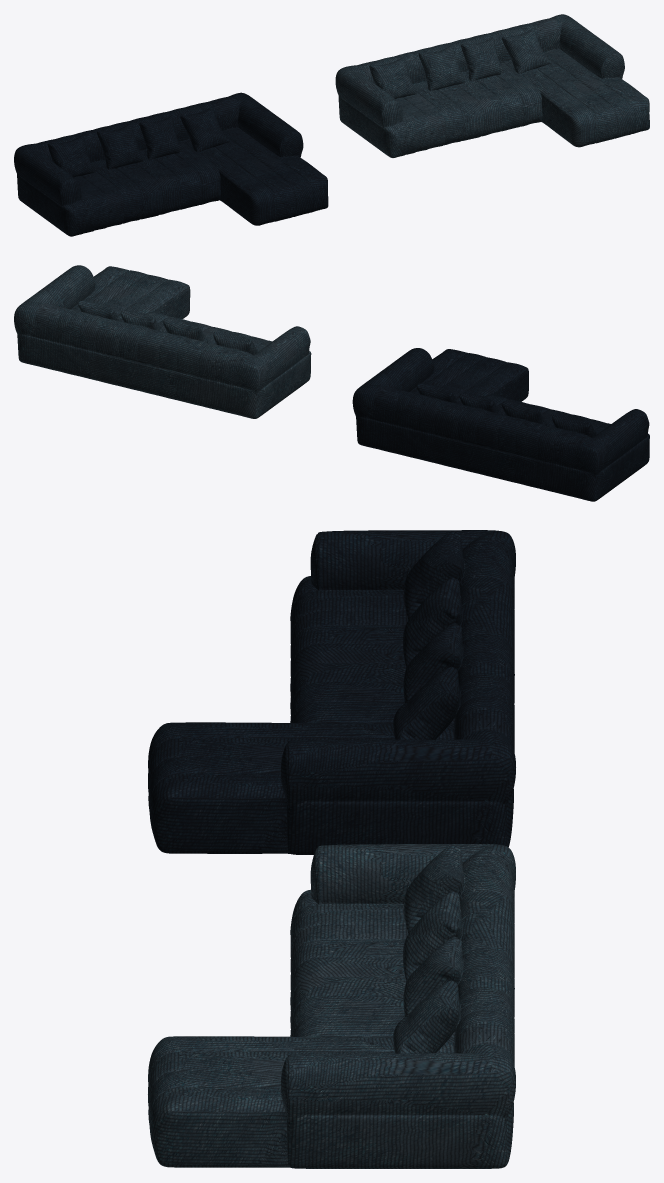
The model's file is Nordico.glb.
The picture shows the model from 3 angles, top to bottom: view 1: azimuth 30°, elevation 25°; view 2: azimuth 150°, elevation 25°; view 3: azimuth 270°, elevation 25°; orthographic projection. The views are drawn at different scales.
Visible parts, largest first — view 1: Nordico_Crema_COPIA, Nordico_GrisOscuro; view 2: Nordico_GrisOscuro, Nordico_Crema_COPIA; view 3: Nordico_Crema_COPIA, Nordico_GrisOscuro.
Part boxes in pixels (left/top/right/bottom): Nordico_Crema_COPIA: left=335, top=14, right=649, bottom=157; Nordico_GrisOscuro: left=14, top=92, right=328, bottom=236; Nordico_GrisOscuro: left=352, top=348, right=649, bottom=501; Nordico_Crema_COPIA: left=14, top=265, right=311, bottom=418; Nordico_Crema_COPIA: left=148, top=844, right=515, bottom=1168; Nordico_GrisOscuro: left=148, top=530, right=515, bottom=854.
Bounding box in the file's own units: 5.2 × 0.5681 × 1.49.
2 materials, 2 textured.
